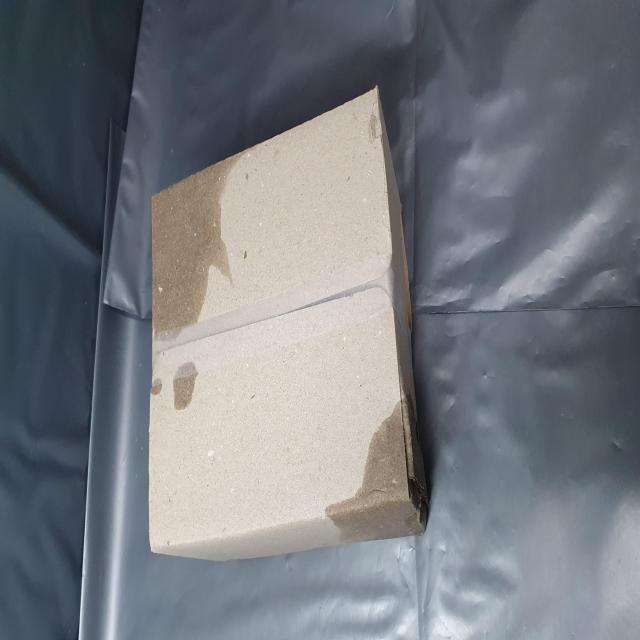wet: (164, 264, 280, 436), (56, 602, 138, 640)
